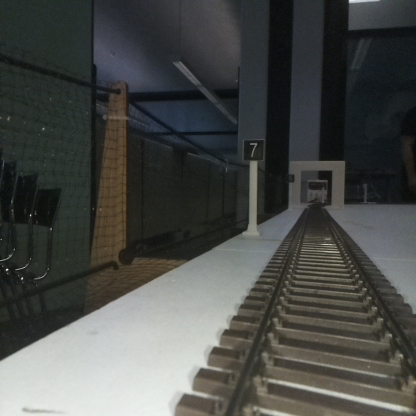black-info-7: (243, 138, 264, 234)
